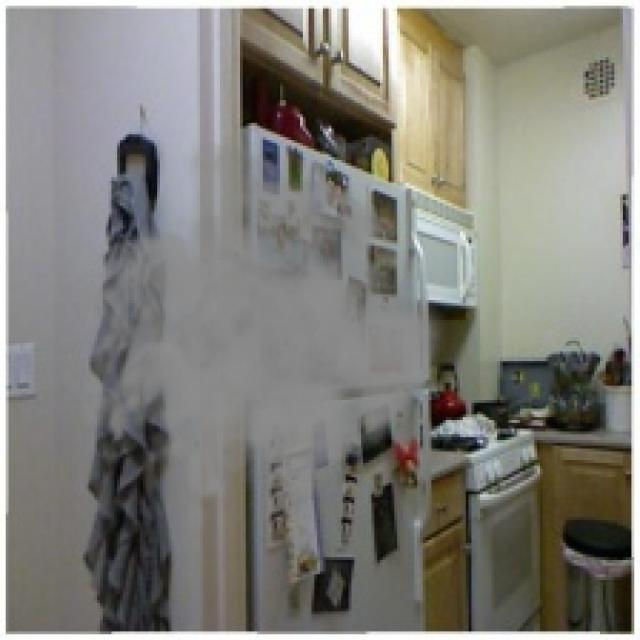Smoke: (57, 135, 449, 540)
